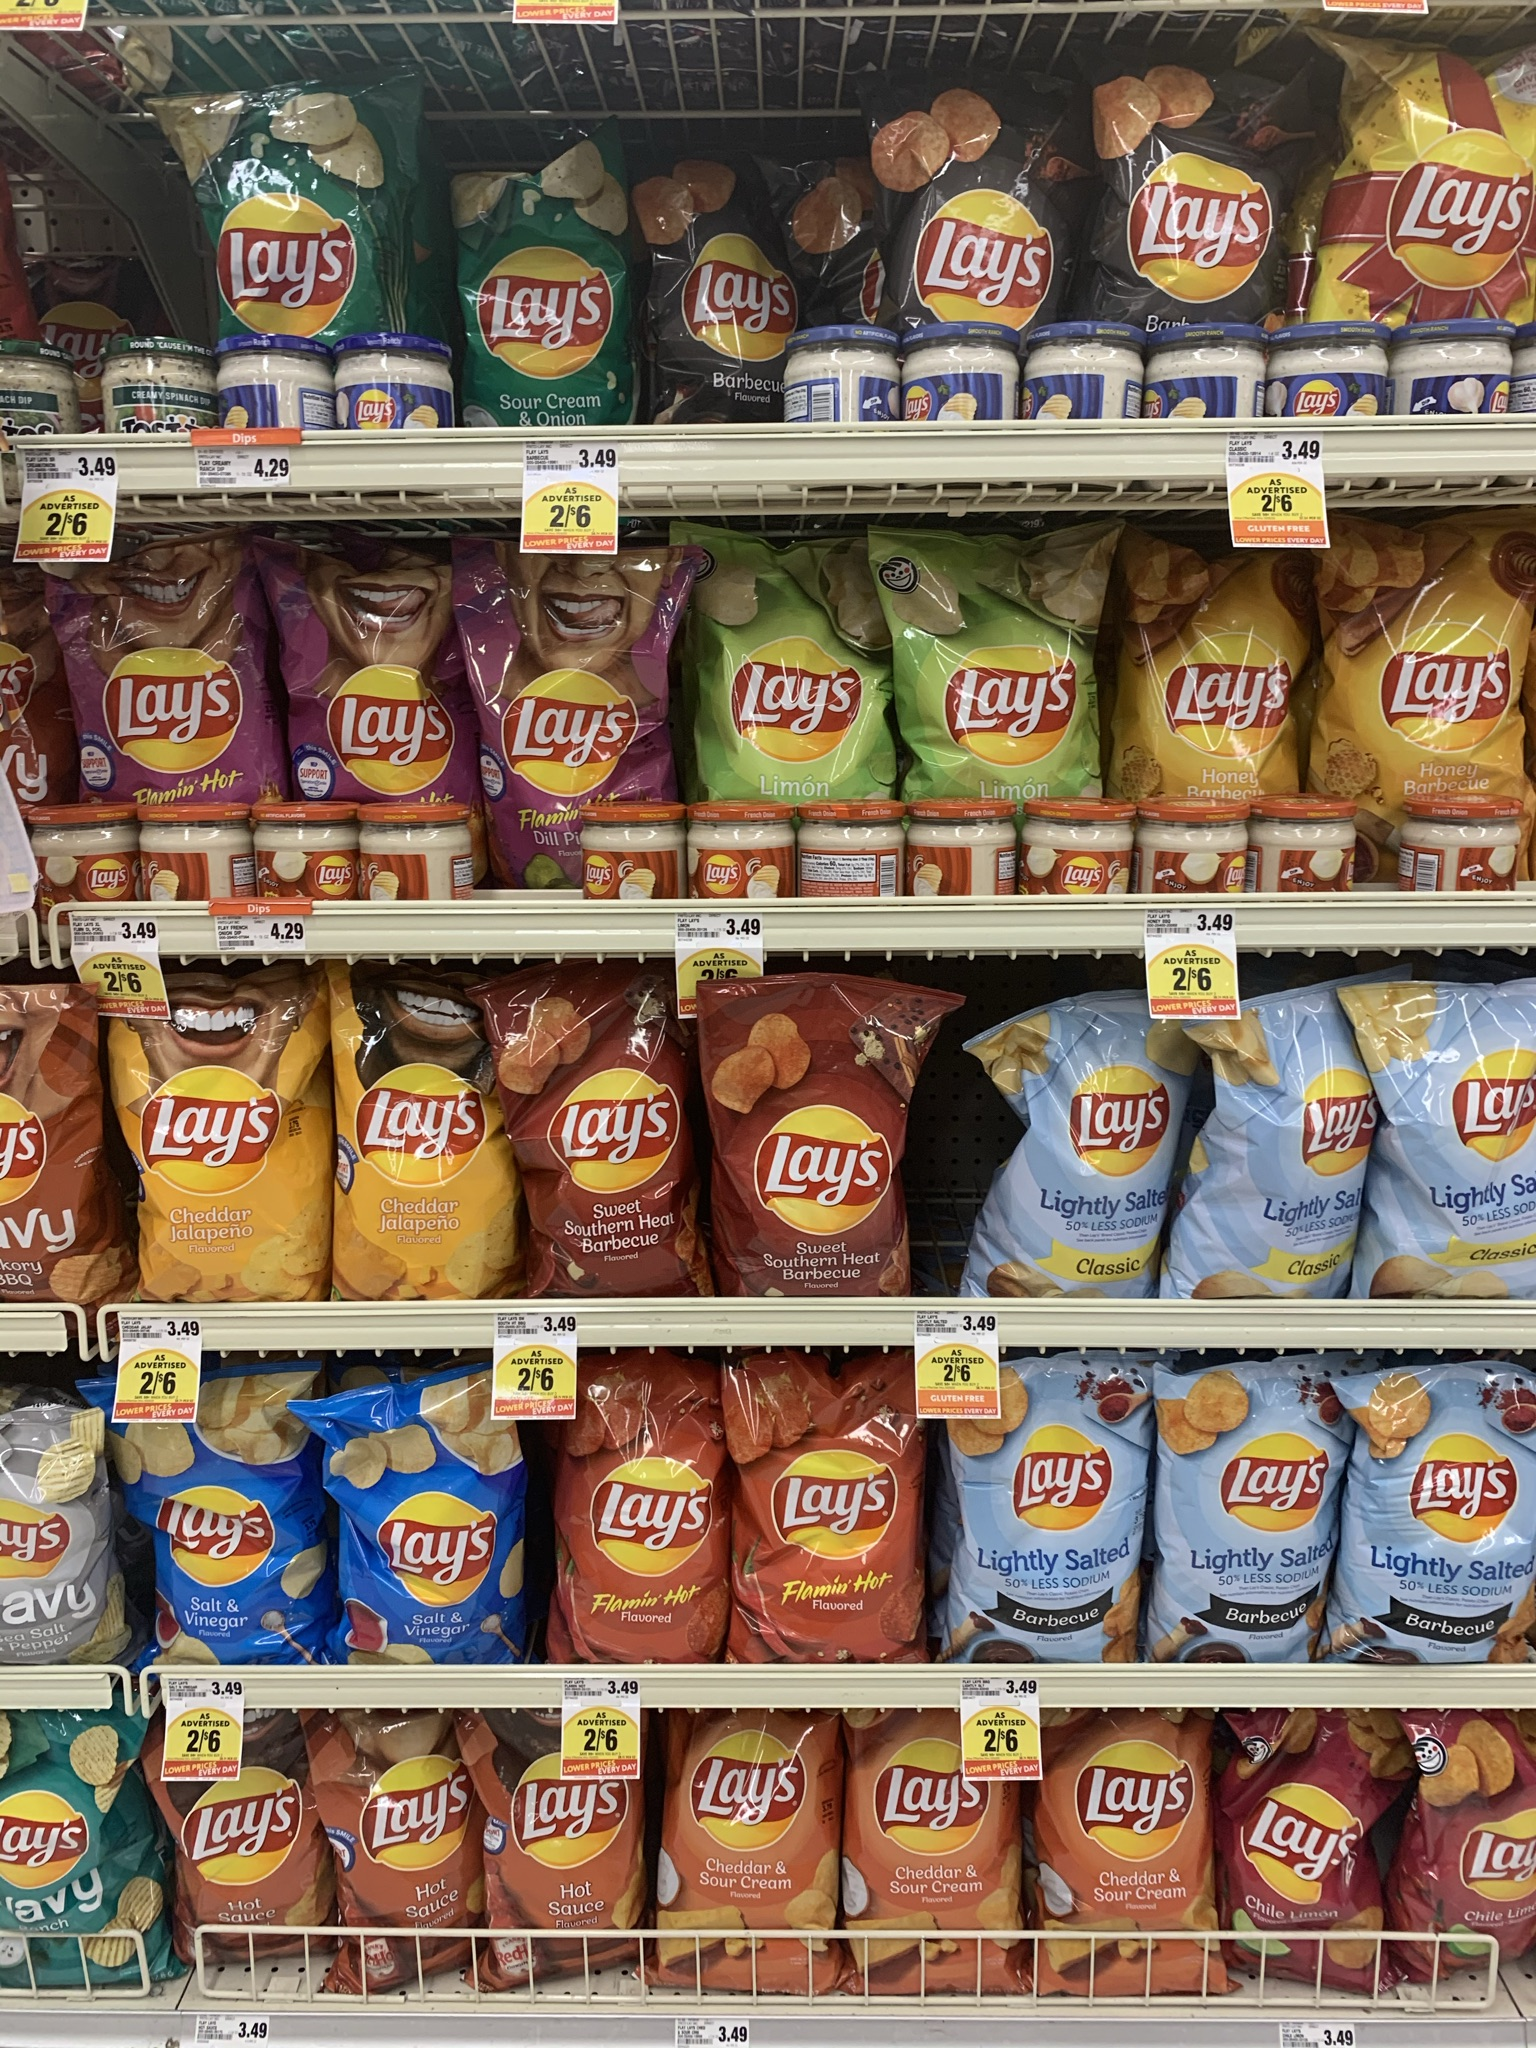lays: (6, 1419, 347, 1705), (134, 993, 337, 1309), (703, 1006, 913, 1305), (497, 1001, 702, 1300), (453, 156, 657, 455), (182, 114, 429, 360), (1349, 529, 1536, 821), (739, 1361, 934, 1638), (1194, 1011, 1363, 1316), (352, 1401, 547, 1659), (1363, 997, 1536, 1285), (879, 97, 1079, 343), (1137, 555, 1325, 816), (966, 1366, 1137, 1643), (1002, 1034, 1158, 1335), (849, 1724, 1039, 1954), (1362, 53, 1534, 306), (703, 555, 866, 814), (1347, 1384, 1507, 1637), (1170, 1374, 1317, 1643), (361, 1001, 502, 1280), (68, 574, 260, 776), (10, 1742, 169, 1975), (899, 539, 1066, 748), (292, 561, 447, 780), (1113, 89, 1263, 314), (678, 176, 812, 426), (1063, 1730, 1212, 1950), (1409, 1729, 1536, 1983), (1244, 1737, 1379, 1971), (587, 1397, 707, 1656), (689, 1734, 833, 1945), (497, 561, 637, 774), (353, 1743, 489, 1934), (508, 1755, 642, 1925), (192, 1751, 323, 1914)
